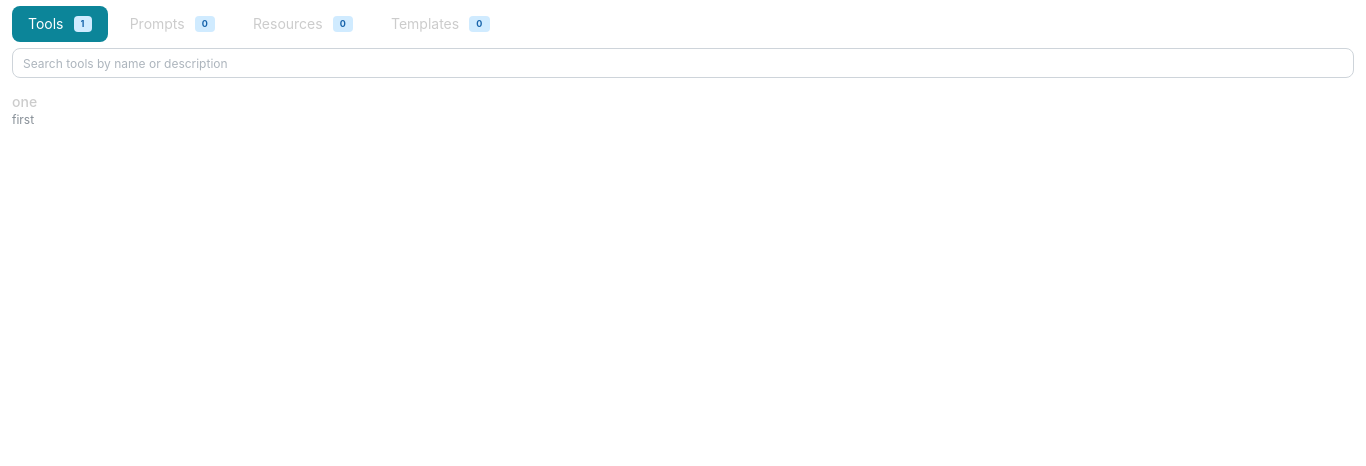
Test: Inspector list — sorting and search › shows a "no matches" empty state when the query filters everything out
Type "nonexistent" into the field labelled "Search tools by name or description". click: (683, 63)
box: [12,48,1354,78]
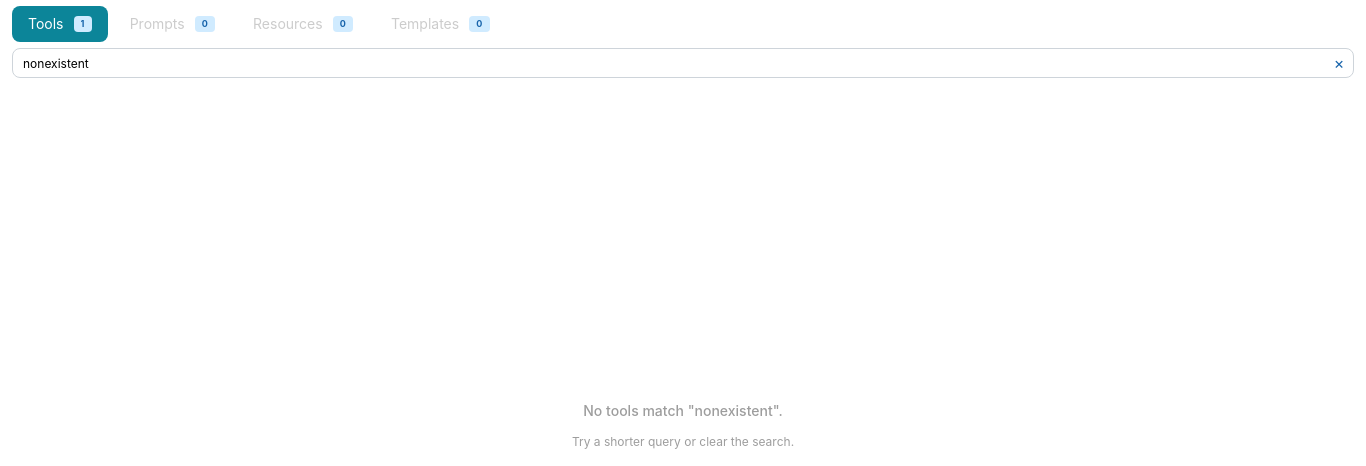
Expected: the text "No tools match \"nonexistent\"." is shown, [583,401,783,421]
